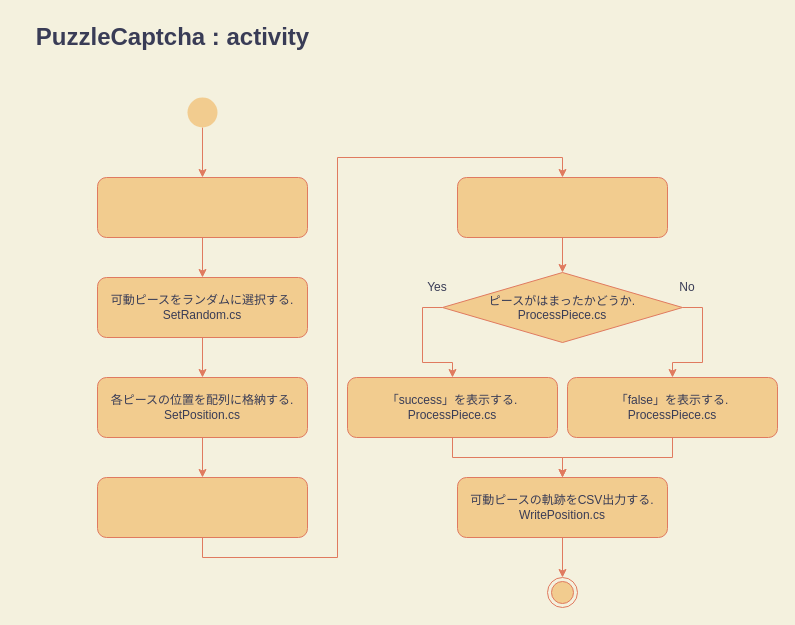
This 795x625 diagram has some shape labels left out. The shapes that lost their labels are listed below. From the top down, each one's box as (x1, y1, x2, y2) in pixels, then its label:
(96, 176, 308, 238): 各ピースにコンポーネントを追加する. AddComponent.cs
(456, 176, 668, 238): 可動ピースをドラッグする. ProcessPiece.cs
(96, 476, 308, 538): 可動ピースを初期位置に配置する. ProcessPiece.cs
